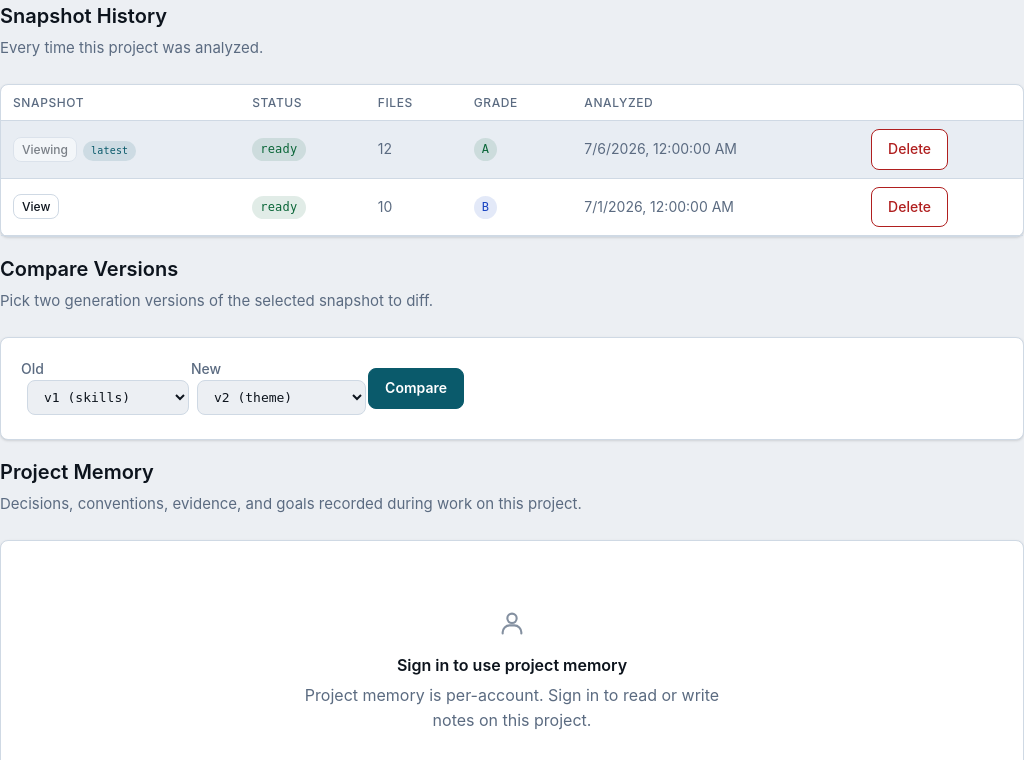
Scenario: VersionsTab — compare versions + diff › defaults the picker to the two most recent versions and renders a diff on Compare
Click the button "Compare" at [416, 389], box [368,368,464,409]
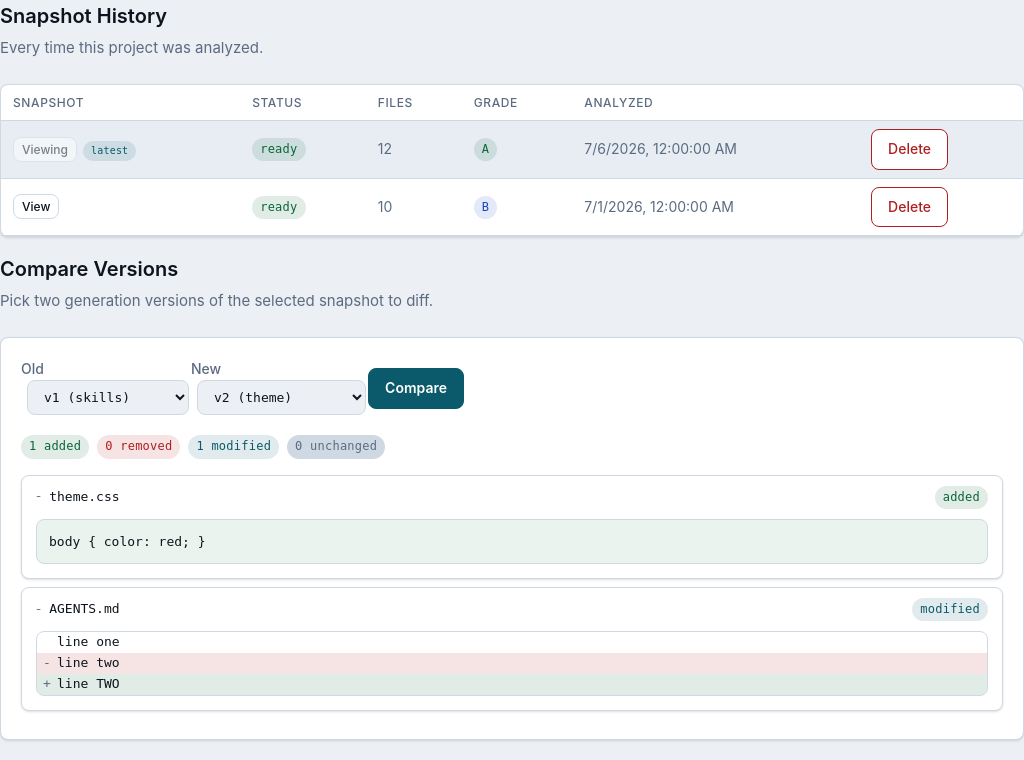
expect the text "1 added" is shown: met, box [21,435,89,459]
expect the text "1 modified" is shown: met, box [188,435,279,459]
expect the text "theme.css" is shown: met, box [49,487,120,508]
